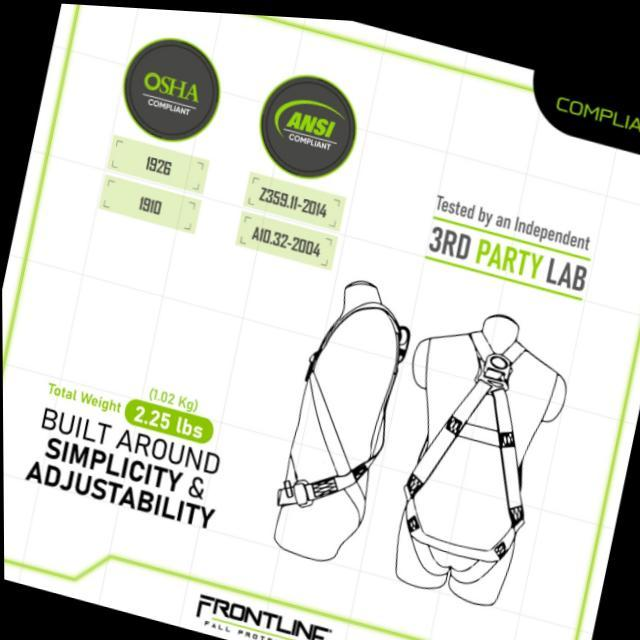belt: (384, 318, 558, 596), (270, 277, 418, 546)
